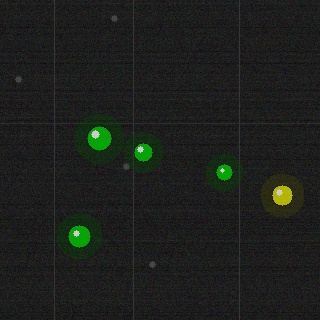green_normal: (85, 124, 113, 152), (66, 223, 92, 249), (132, 141, 154, 163), (214, 162, 234, 182)
yellow_warning: (270, 183, 294, 207)
